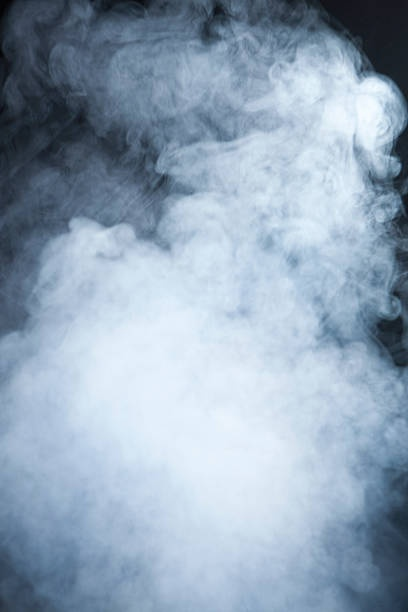smoke: (7, 9, 399, 607)
